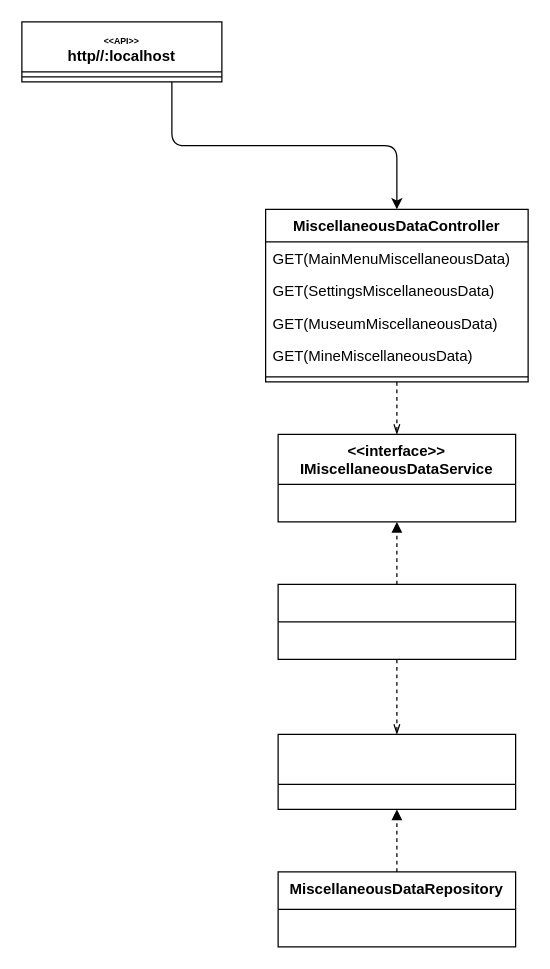
This 550x969 diagram has some shape labels left out. The centre of each missing label's shape, as x and y in pixels:
"<<interface>> IMiscellaneousDataRepository" belongs at point 396,771.
"MiscellaneousDataService" belongs at point 396,621.
